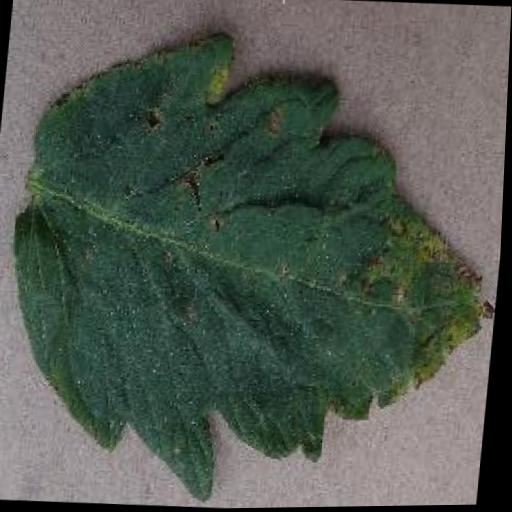Bacterial Spot: (0, 18, 511, 512)
